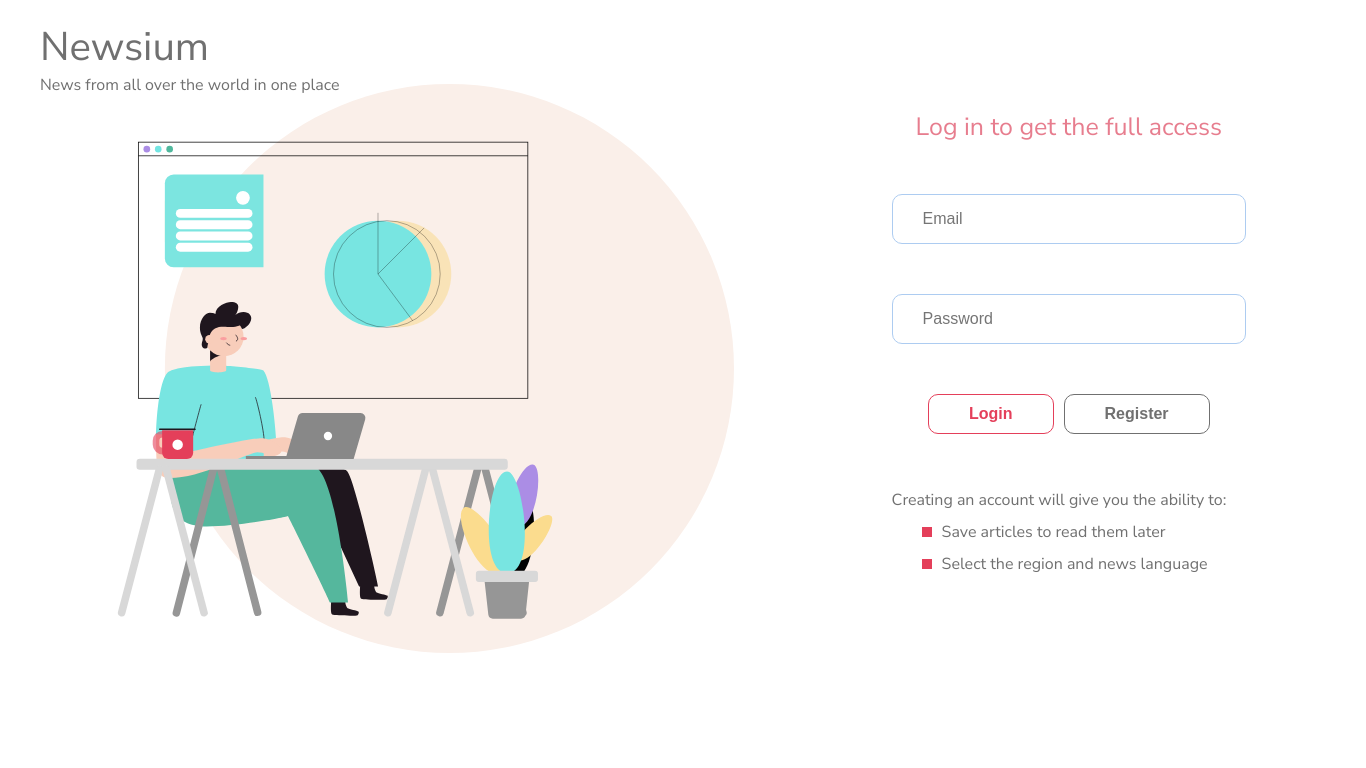
it: PROFILE › shows the settings page if the form signin is succesfull
Type "test@mail.com" into the field with placeholder "Email".
click(1069, 219); type("test@mail.com")  # box [892,194,1246,244]
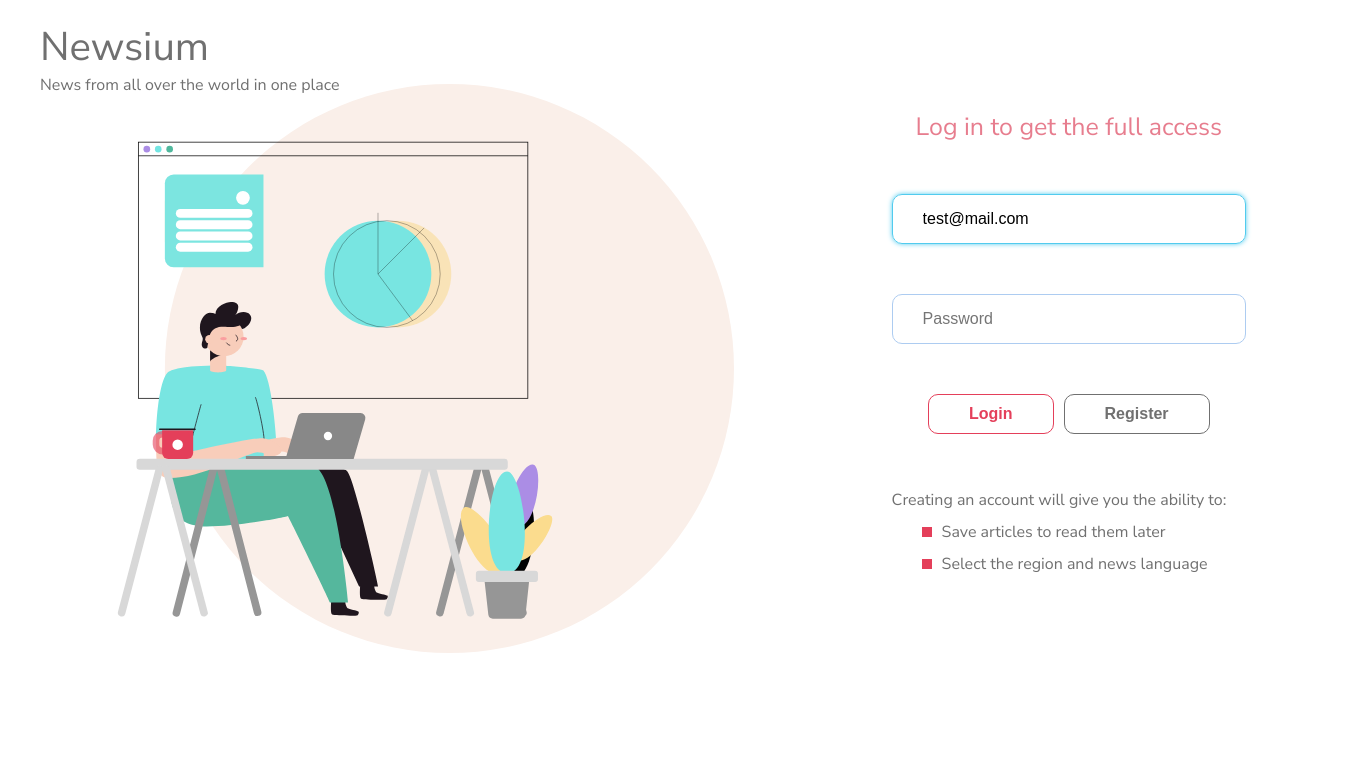
Type "123456" into the password field with placeholder "Password".
click(1069, 319); type("123456")  # box [892,294,1246,344]
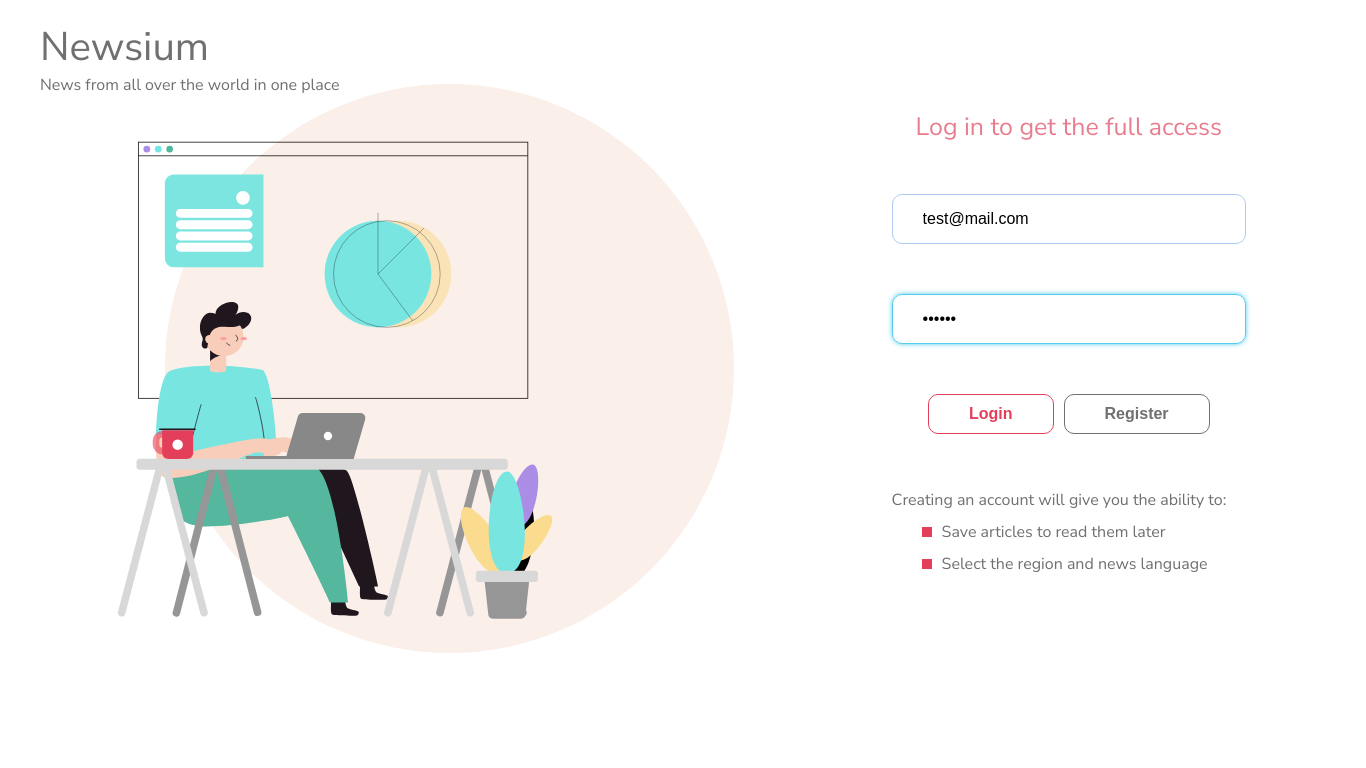
Click the button "Login".
click(991, 414)  # box [928,394,1054,434]
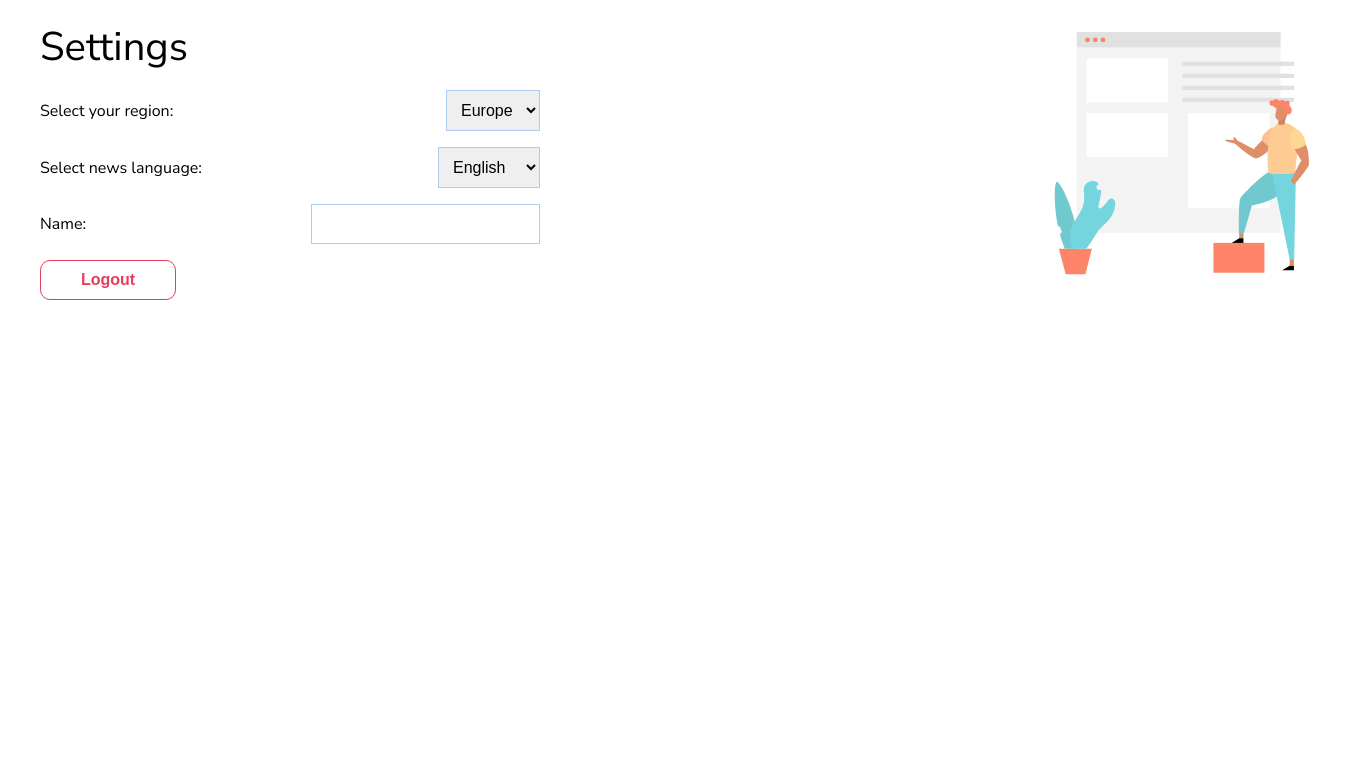
expect the heading "Settings" is shown: met, box [40,20,188,74]
